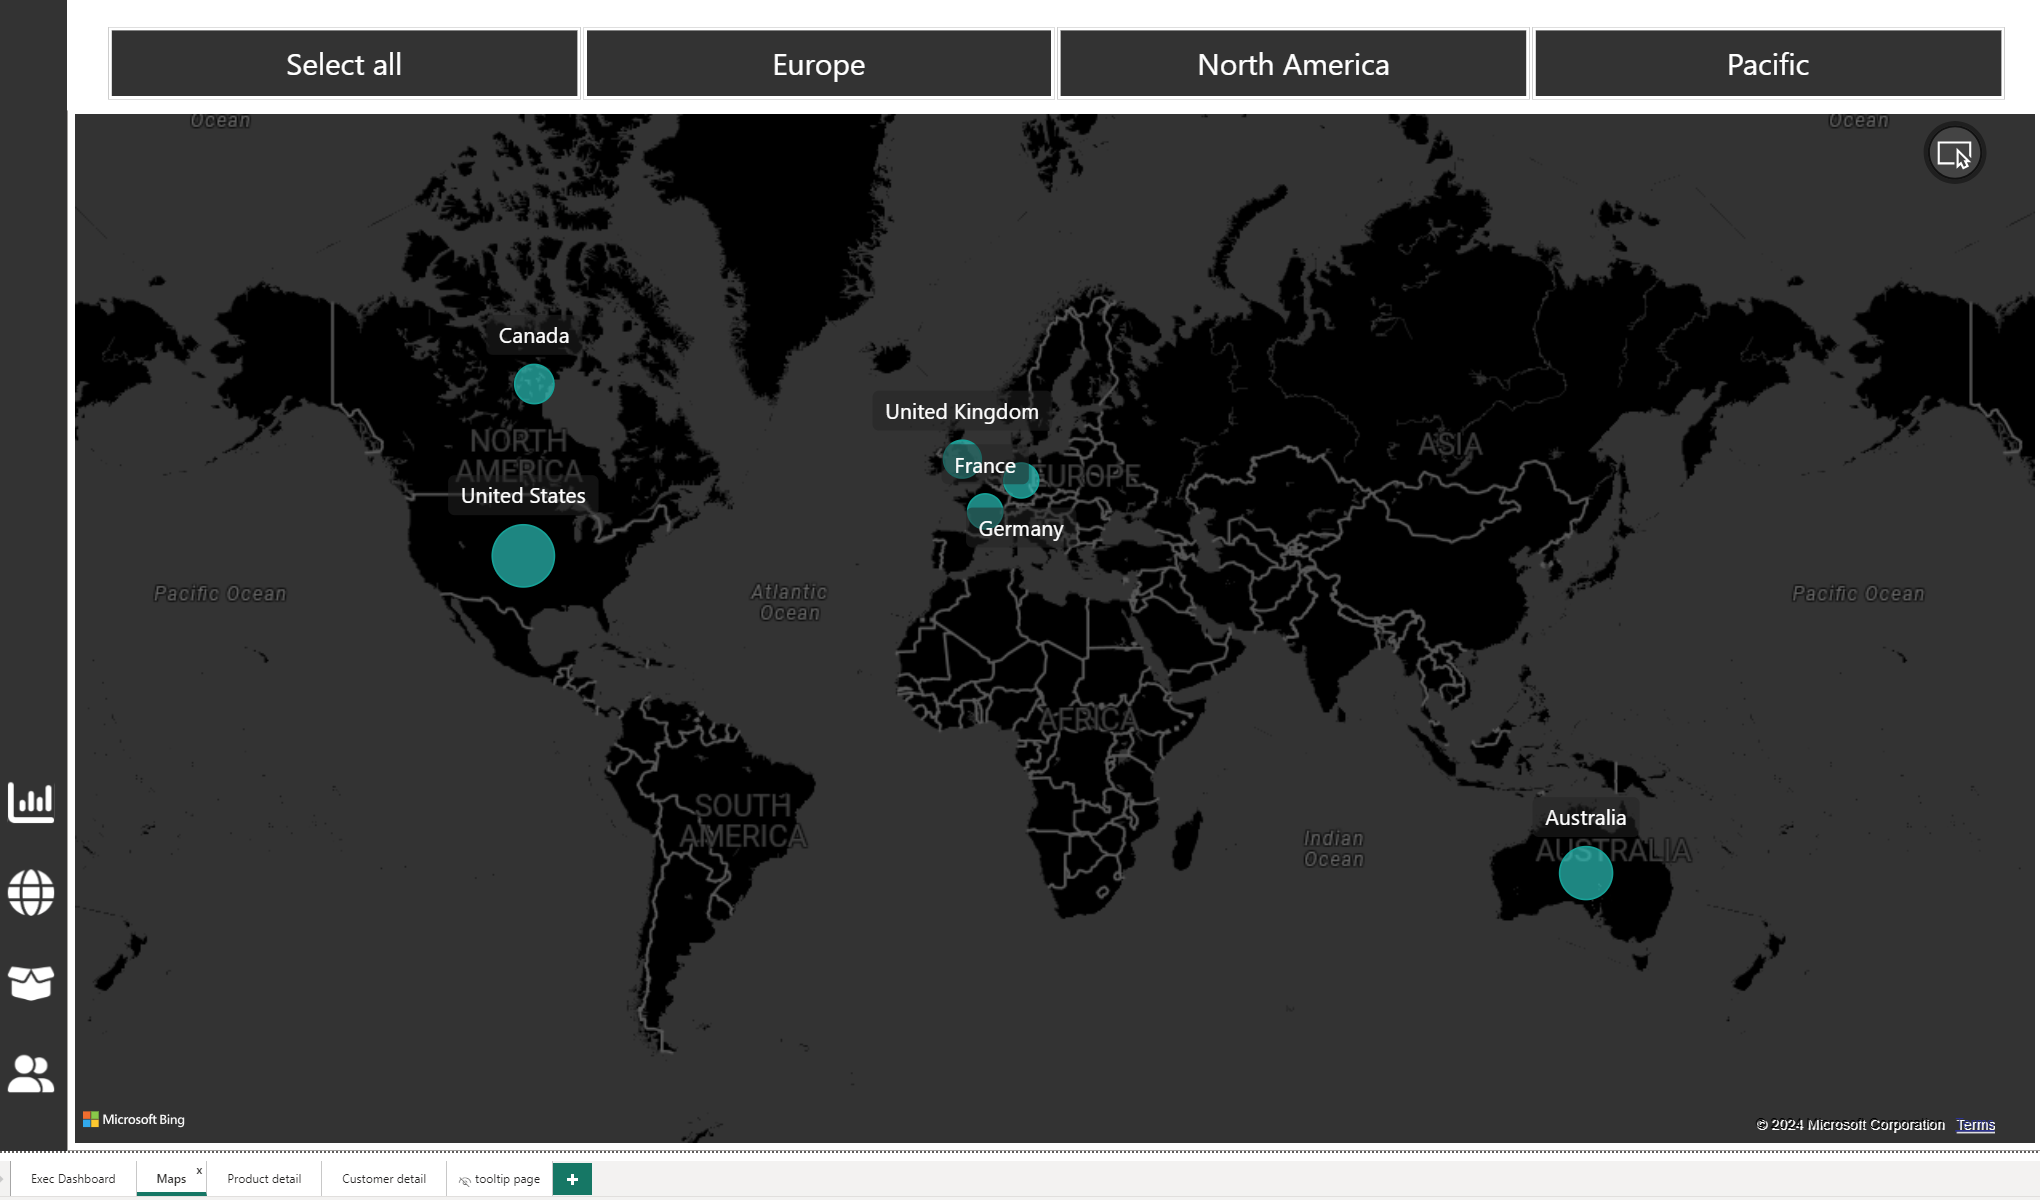

The page's visual inventory and layout, read from the dashboard file:
{"tool":"powerbi","page":{"name":"Maps","canvas":[1280,720],"ordinal":1},"visuals":[{"type":"shape","box":[0,0,45.2,720.6],"z":0},{"type":"actionButton","box":[0,483.7,45.2,37.1],"z":1000,"group":"g1"},{"type":"map","fields":{"Category":["AW_Territories_lookup.Country"],"Size":["Measure Table.Total orders"]},"box":[45.2,66.8,1234.6,653.2],"z":1000},{"type":"slicer","fields":{"Values":["AW_Territories_lookup.Continent"]},"box":[45.2,10.5,1234.6,58.8],"z":2000},{"type":"actionButton","box":[0,596.7,45.2,37.1],"z":2000,"group":"g1"},{"type":"actionButton","box":[0,540.2,45.2,37.1],"z":3000,"group":"g1"},{"type":"group","id":"g1","title":"page navigation","box":[0,483.7,45.2,206.6],"z":3000},{"type":"actionButton","box":[0,653.2,45.2,37.1],"z":4000,"group":"g1"}]}

Visuals, with their boxes on the page's 1280x720 design canvas (x1, y1, x2, y2). These are canvas units, not pixel positions in the 2040x1200 screenshot, which may show the page scaled, cropped or inside an application window:
shape: region(0, 0, 45, 721)
actionButton: region(0, 484, 45, 521)
map - AW_Territories_lookup.Country x Measure Table.Total orders: region(45, 67, 1280, 720)
slicer - AW_Territories_lookup.Continent: region(45, 10, 1280, 69)
actionButton: region(0, 597, 45, 634)
actionButton: region(0, 540, 45, 577)
"page navigation" group: region(0, 484, 45, 690)
actionButton: region(0, 653, 45, 690)
